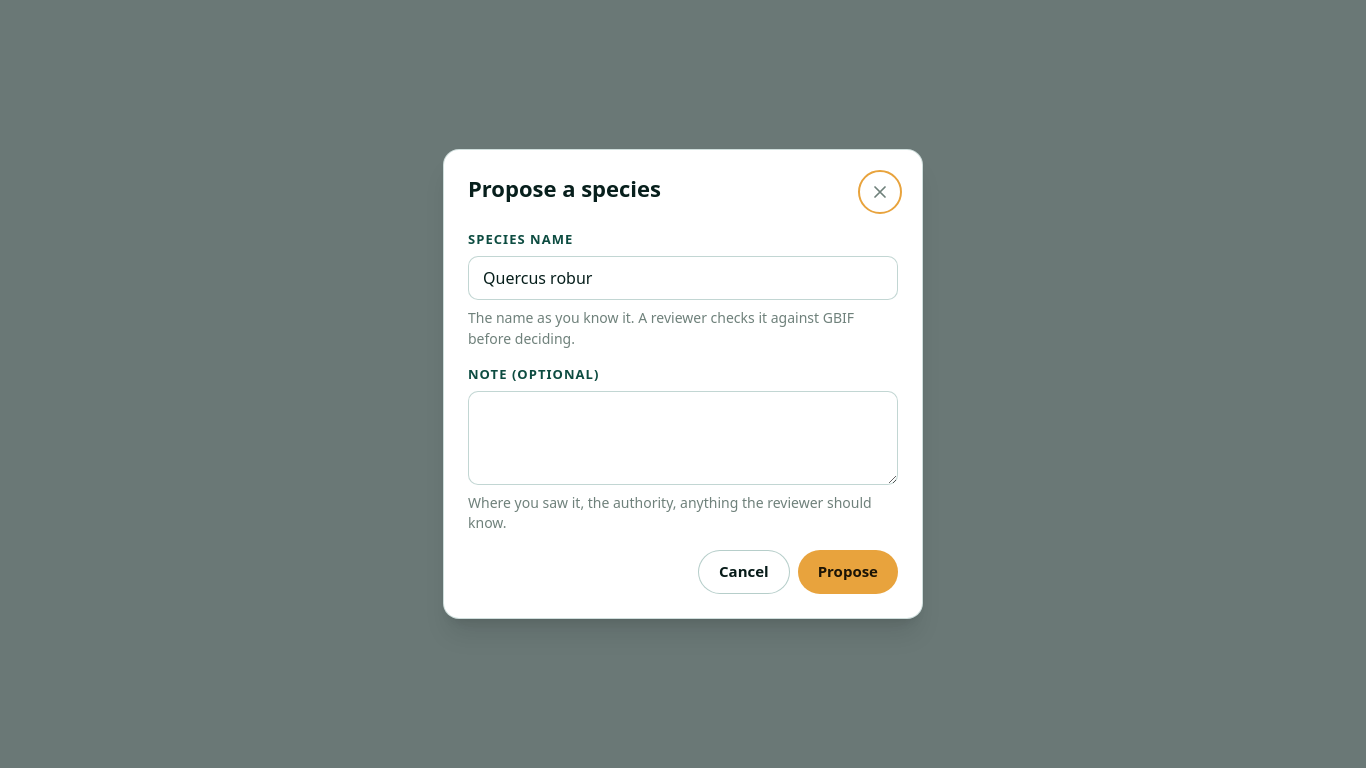
RFC-75 R2 ProposeSpeciesDialog › RFC-75 R2 SPECIES_NAME_TAKEN links to the species the API names in details[0]
Click the button "Propose" at (848, 572), box [798,550,898,594]
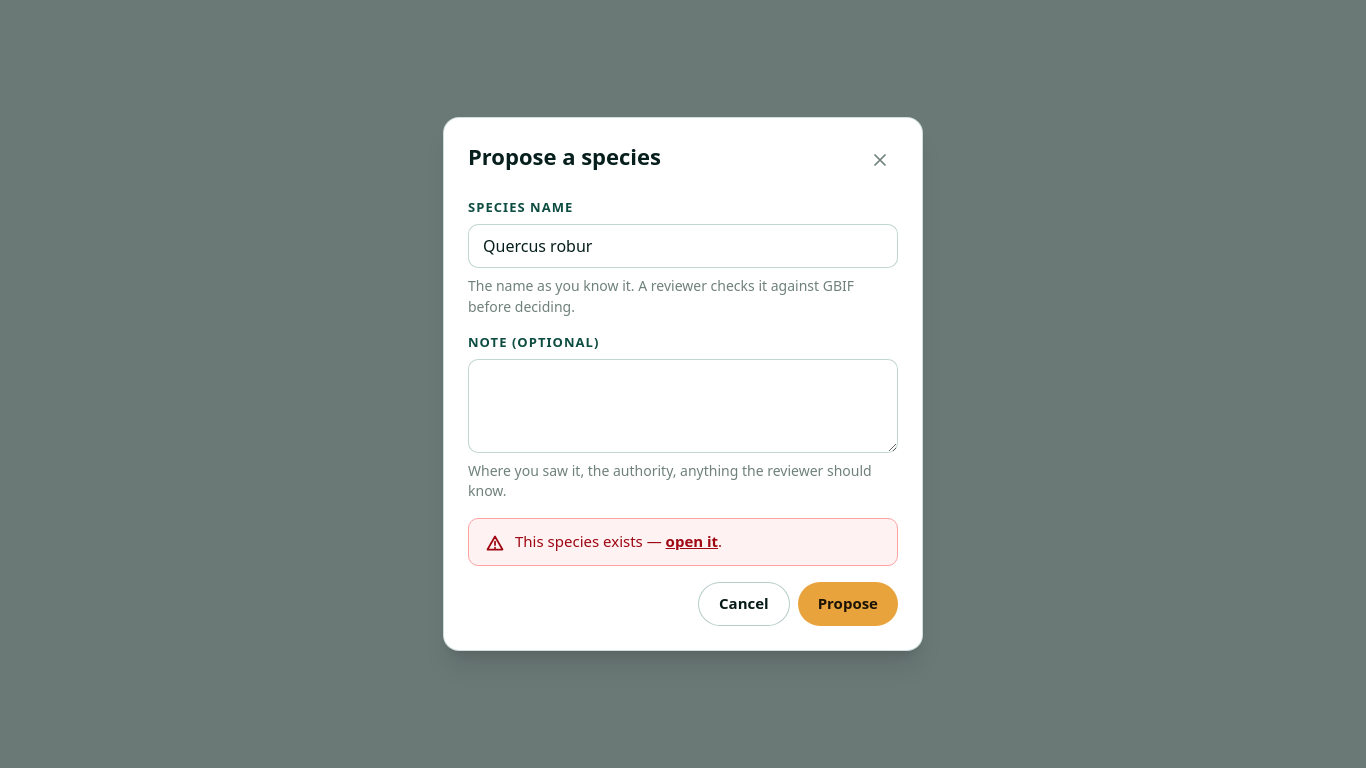
Expected: the message shows "This species exists — open it", [468,518,898,566]
